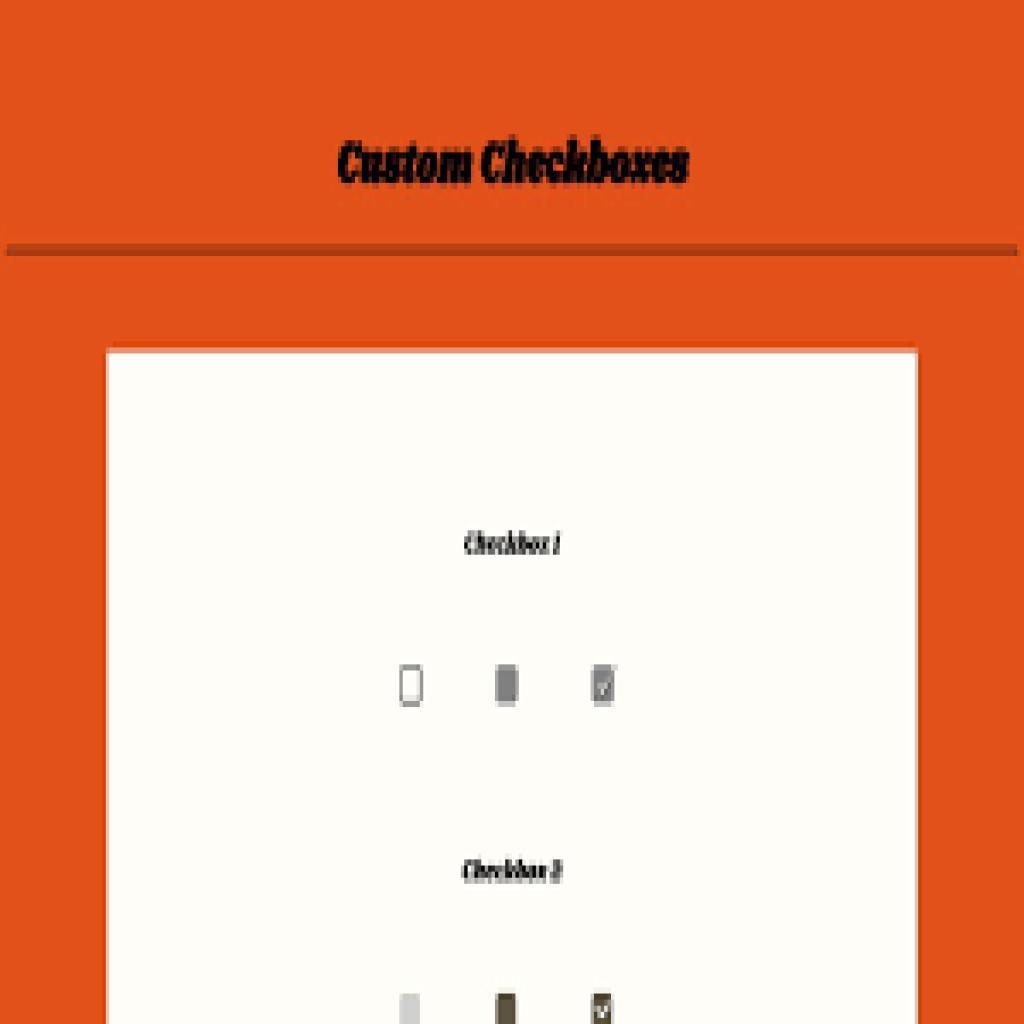checkbox: (489, 660, 529, 713), (394, 660, 433, 714), (588, 658, 624, 715)
